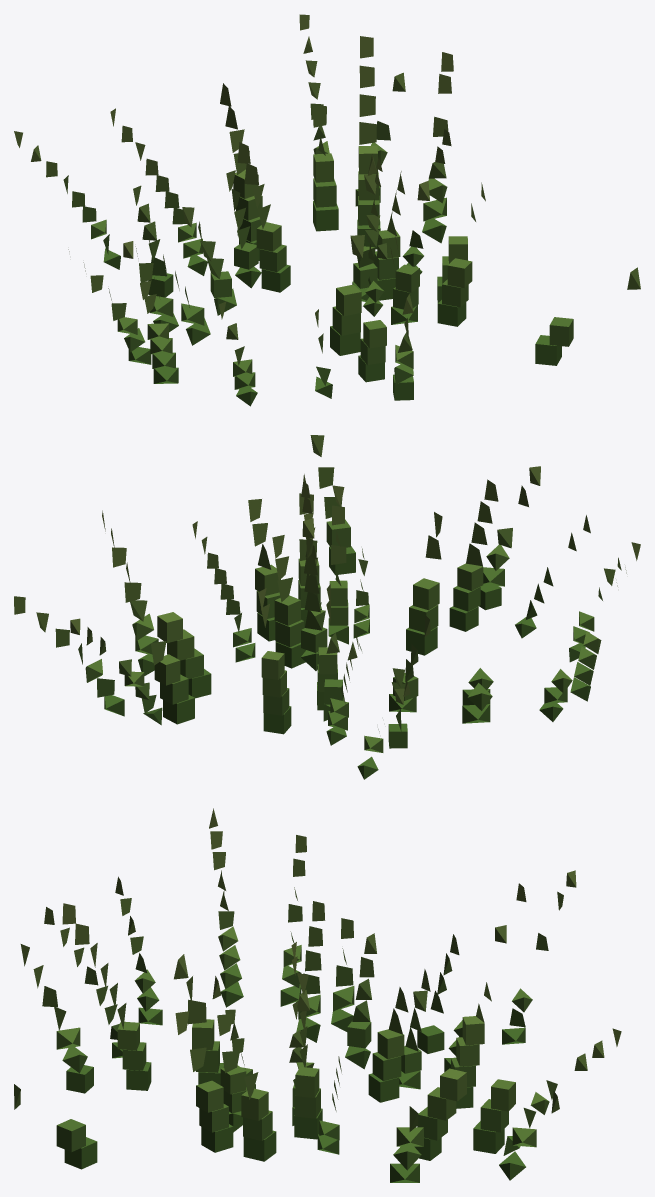
The model's file is grass_b.glb.
3 views of the same model, one above another, from view 1: azimuth 30°, elevation 25°; view 2: azimuth 150°, elevation 25°; view 3: azimuth 270°, elevation 25° (orthographic). The views are drawn at different scales.
Visible parts, largest first — view 1: GrassB; view 2: GrassB; view 3: GrassB.
Part boxes in pixels (x1,y1,x2,y2): GrassB: (14,14,640,406); GrassB: (14,435,640,779); GrassB: (14,808,621,1182).
Size of the model in its own units: 2.8 by 0.9953 by 3.04.
